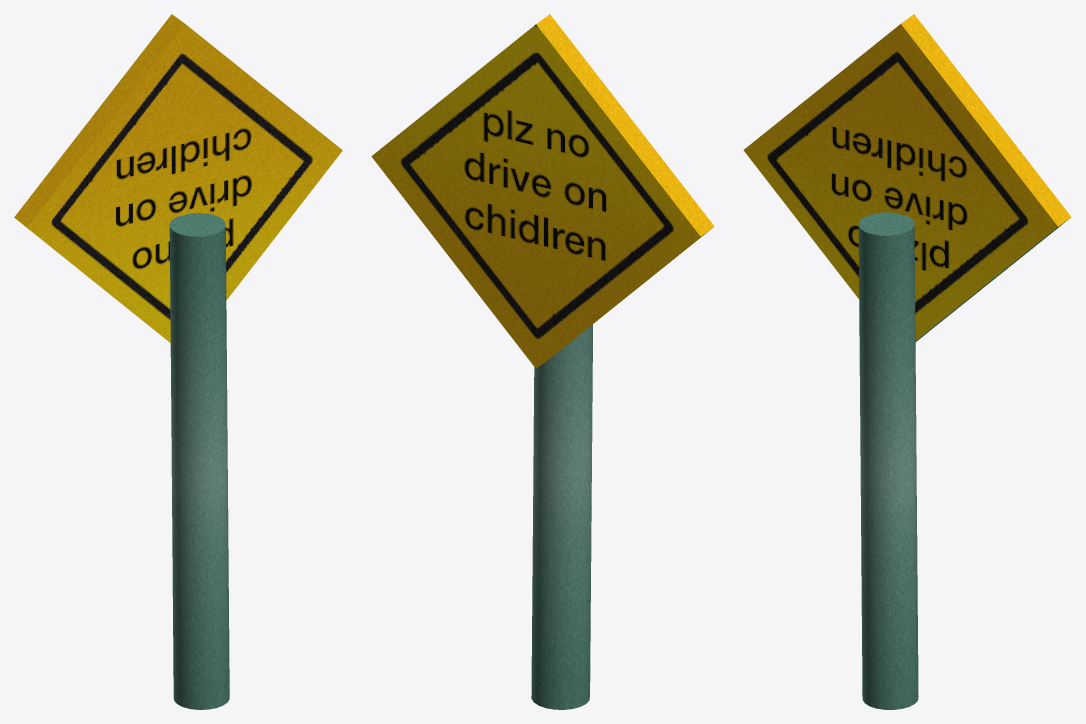
File: sign_1.fbx
The picture shows the model from 3 angles, left to right: view 1: azimuth 30°, elevation 25°; view 2: azimuth 150°, elevation 25°; view 3: azimuth 330°, elevation 25°; orthographic projection. The views are drawn at different scales.
Parts seen in each view (by area): view 1: pCube1, pCylinder1; view 2: pCube1, pCylinder1; view 3: pCube1, pCylinder1.
Part boxes in pixels (x1,y1,x2,y2): pCube1: [14, 14, 342, 342]; pCylinder1: [169, 213, 229, 709]; pCube1: [371, 14, 714, 368]; pCylinder1: [531, 324, 592, 709]; pCube1: [743, 14, 1071, 341]; pCylinder1: [858, 212, 918, 709].
Size of the model in its own units: 1.41 by 2.85 by 0.3176.
